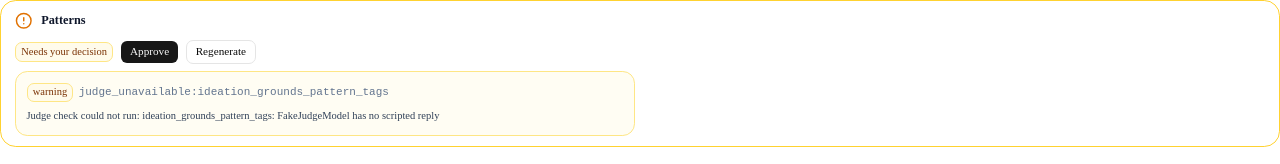
Scenario: StageStatusPanel › tells the user and reloads when be answers 409 (the row changed meanwhile)
Click the button "Approve".
click(150, 52)  # box x1=120 y1=40 x2=179 y2=64
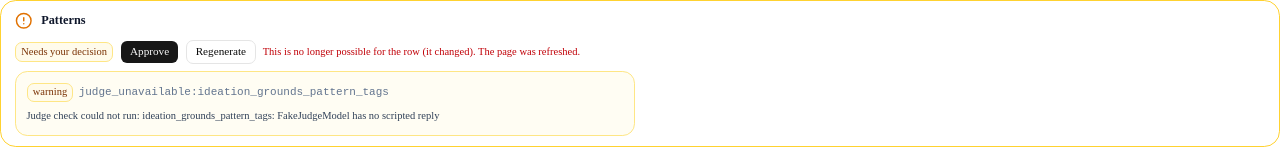
Expected: the text "This is no longer possible for the row (it changed). The page was refreshed." is shown, x1=263 y1=45 x2=580 y2=59
